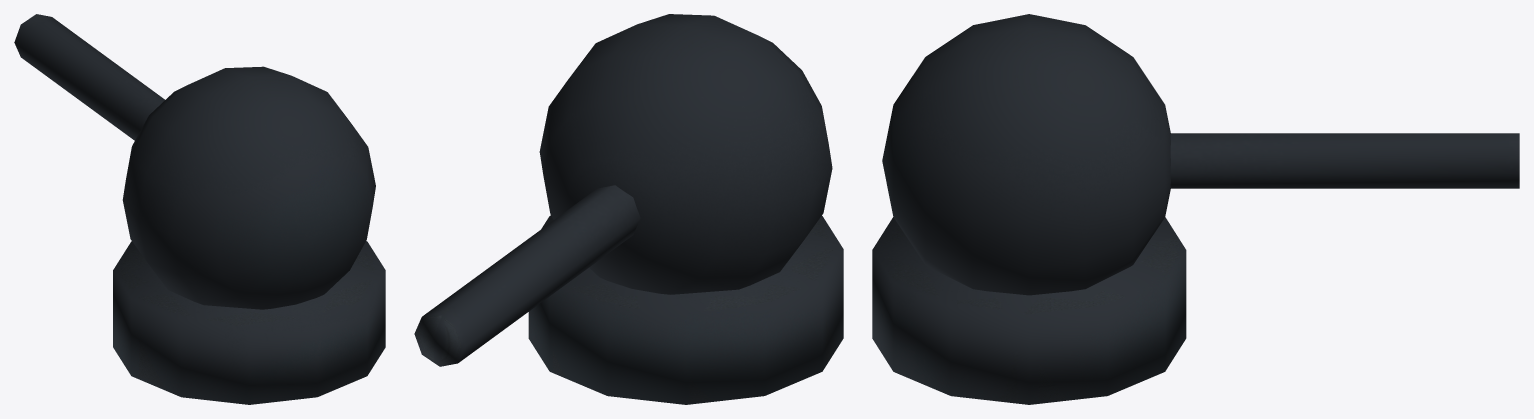
Rendered from SM_CIWS.glb.
3 views of the same model, side by side, from view 1: azimuth 30°, elevation 25°; view 2: azimuth 150°, elevation 25°; view 3: azimuth 270°, elevation 25° (orthographic). The views are drawn at different scales.
Size of the model in its own units: 0.9697 by 1.06 by 2.
Materials: 1 (1 with a texture image).
